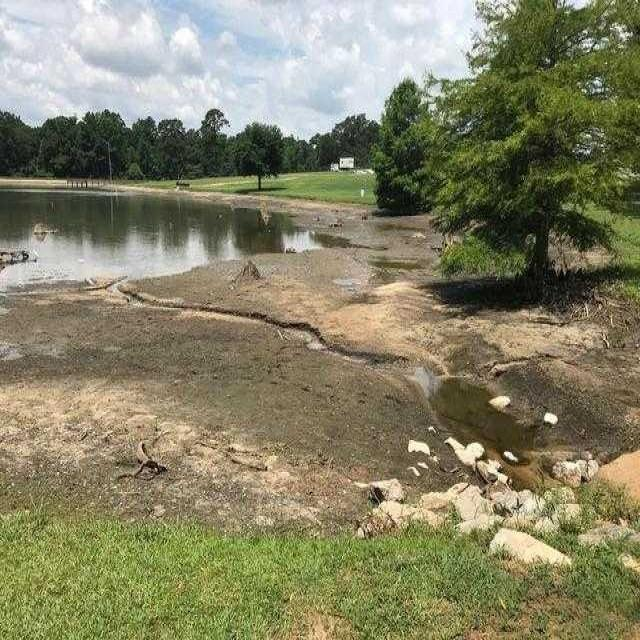Ponds: (2, 187, 349, 293)
